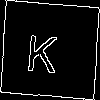K: (25, 25, 59, 74)
